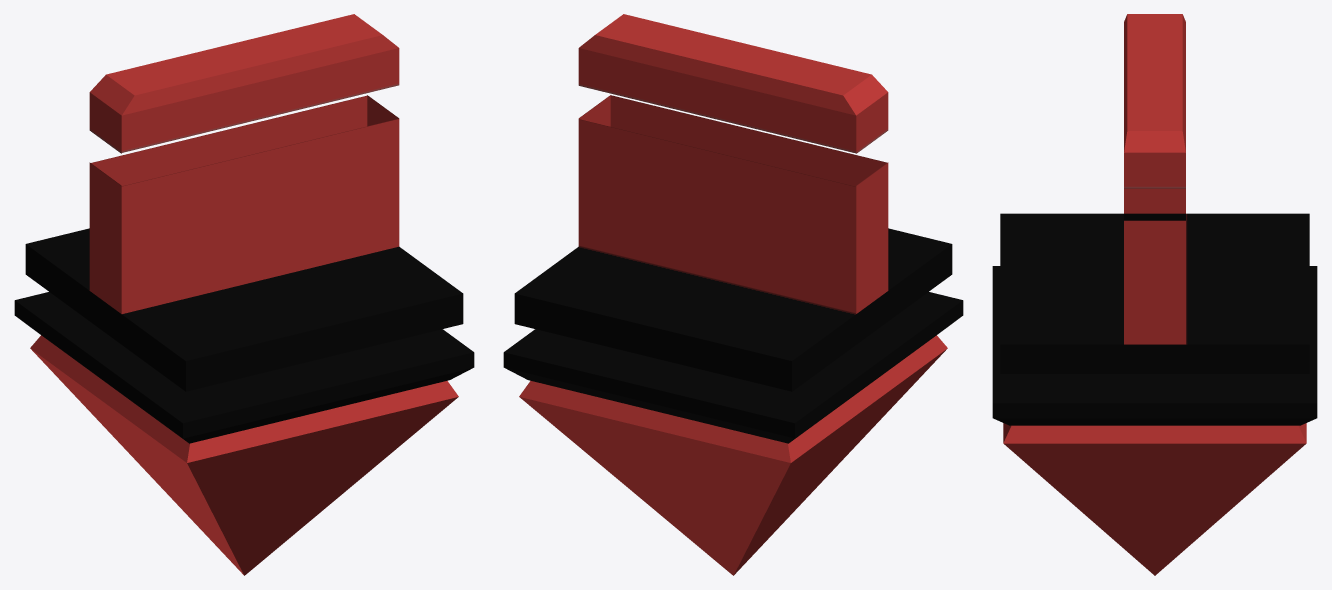
Rendered from wall_tile.fbx.
The picture shows the model from 3 angles, left to right: view 1: azimuth 30°, elevation 25°; view 2: azimuth 150°, elevation 25°; view 3: azimuth 270°, elevation 25°; orthographic projection. The views are drawn at different scales.
Parts seen in each view (by area): view 1: Wall_tile; view 2: Wall_tile; view 3: Wall_tile.
Part boxes in pixels (x1,y1,x2,y2): Wall_tile: [14, 14, 474, 575]; Wall_tile: [503, 14, 963, 575]; Wall_tile: [992, 14, 1317, 575].
Size of the model in its own units: 100 by 171 by 100.
